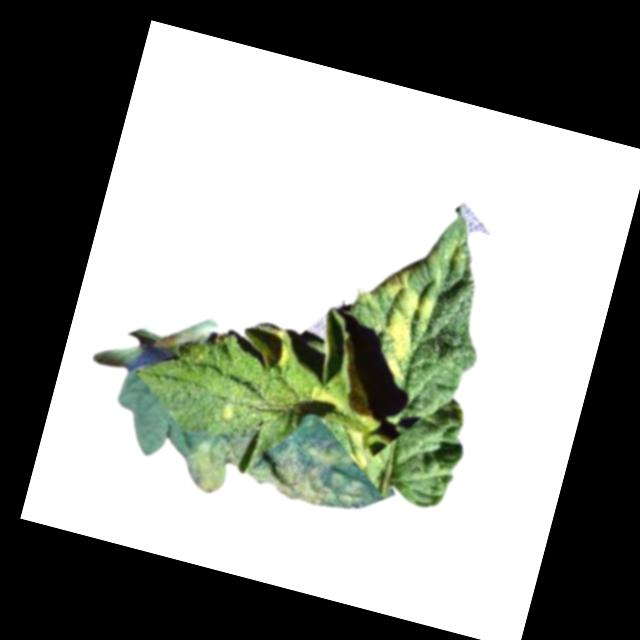Leaf_Mold: (180, 412, 374, 530), (360, 264, 447, 382), (301, 358, 390, 469), (235, 316, 298, 373), (214, 394, 241, 423)
